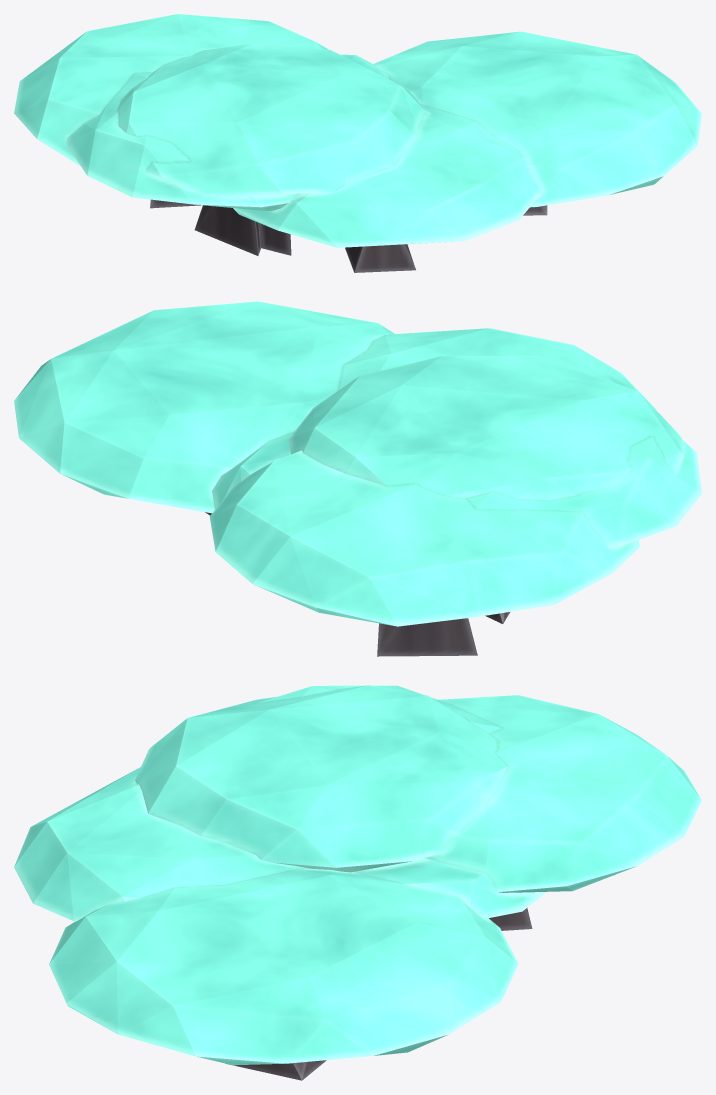
The model's file is underworld-flora-fungal-nursery-caps.glb.
3 views of the same model, one above another, from view 1: azimuth 30°, elevation 25°; view 2: azimuth 150°, elevation 25°; view 3: azimuth 270°, elevation 25° (orthographic). The views are drawn at different scales.
Parts seen in each view (by area): view 1: caps, stalks; view 2: caps, stalks; view 3: caps, stalks.
Part boxes in pixels (x1,y1,x2,y2): caps: [14, 14, 701, 247]; stalks: [150, 199, 547, 272]; caps: [14, 301, 701, 626]; stalks: [205, 512, 510, 656]; caps: [14, 685, 701, 1065]; stalks: [226, 908, 532, 1080].
Bounding box in the file's own units: 0.8526 × 0.2186 × 0.7473.
2 materials, 2 textured.
